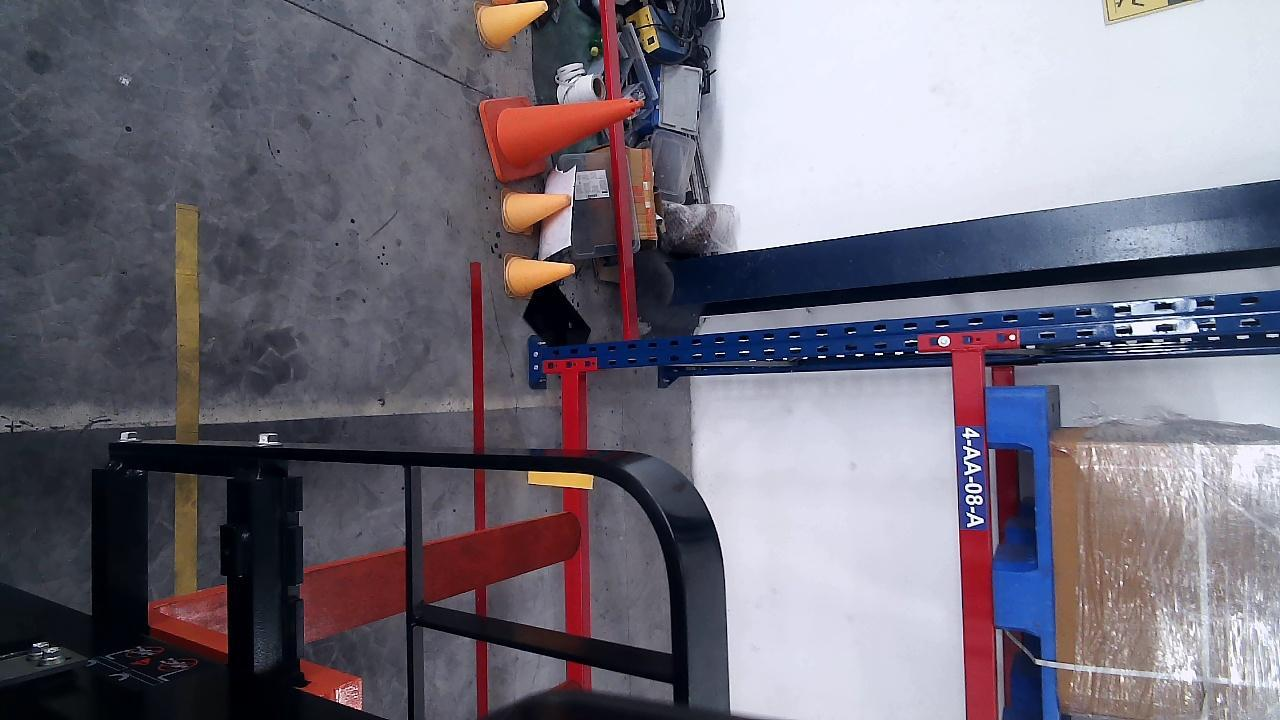h_rack: (952, 351, 999, 719), (560, 373, 587, 685)
orange_strip: (526, 468, 593, 487)
red_line: (467, 258, 490, 720)
small_pallet: (985, 388, 1060, 720)
yellow_line: (175, 203, 199, 593)
